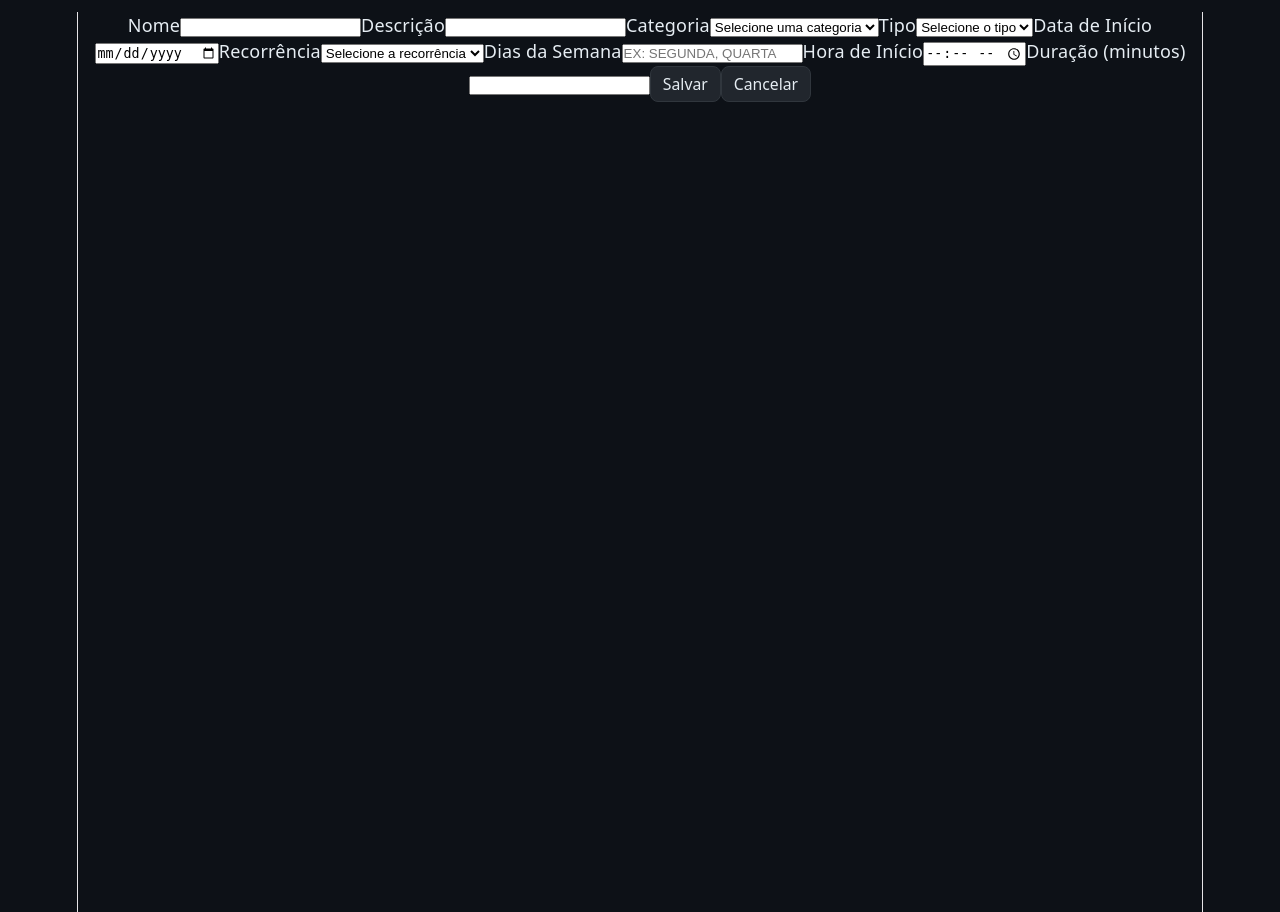
Test case: TarefaForm › mostra erros em todos os campos obrigatórios quando vazios
Click the button "Salvar". click: (685, 84)
box: [650,66,721,102]
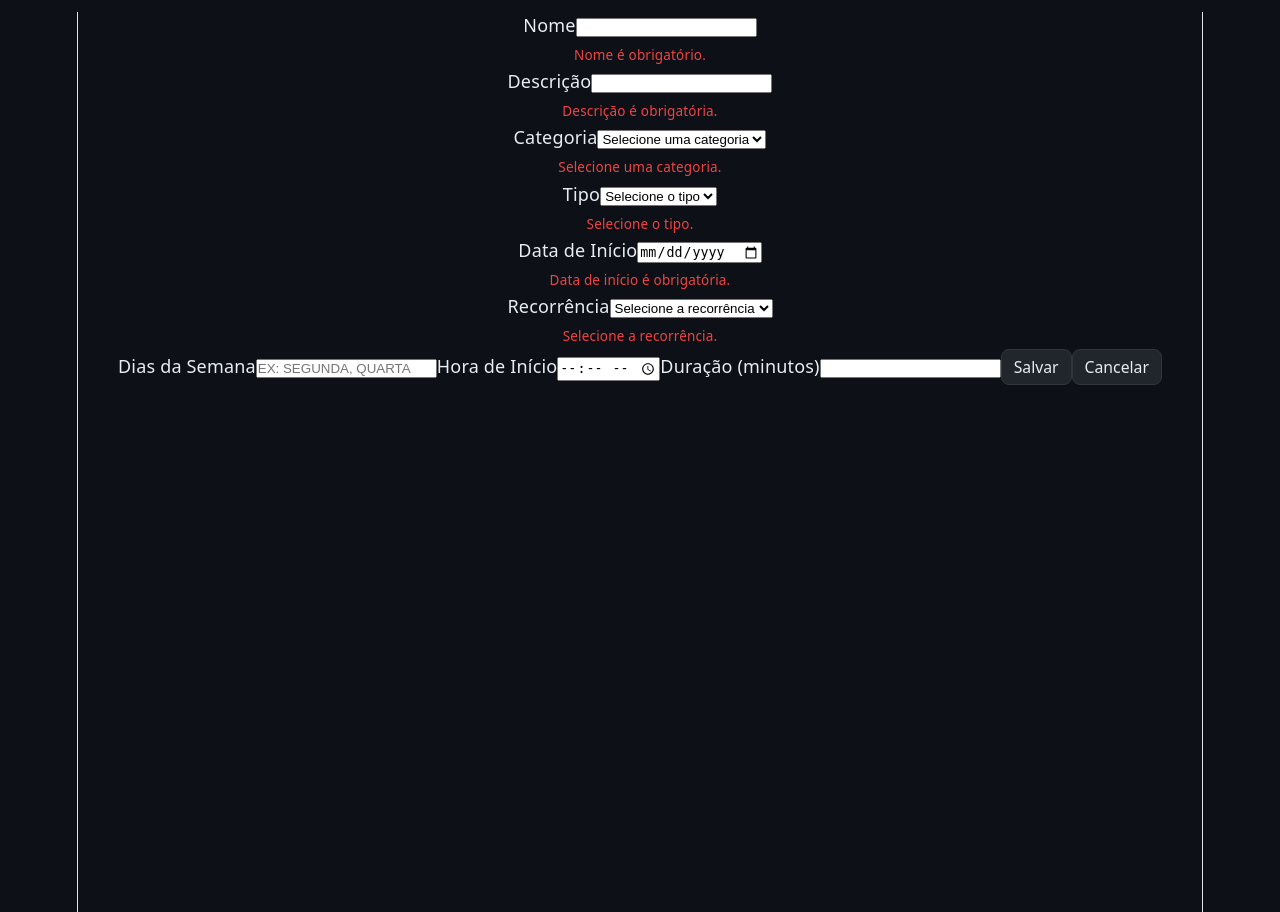
Expected: the text "Nome é obrigatório." is shown, [574,46,706,64]
Expected: the text "Descrição é obrigatória." is shown, [562,102,718,120]
Expected: the text "Selecione uma categoria." is shown, [558,158,722,176]
